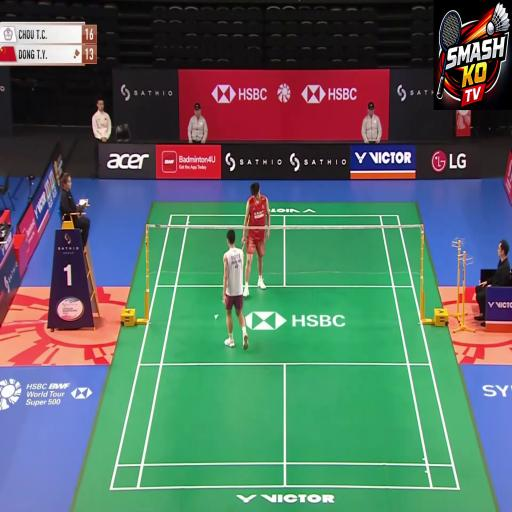player: (208, 219, 264, 372), (238, 173, 275, 296)
